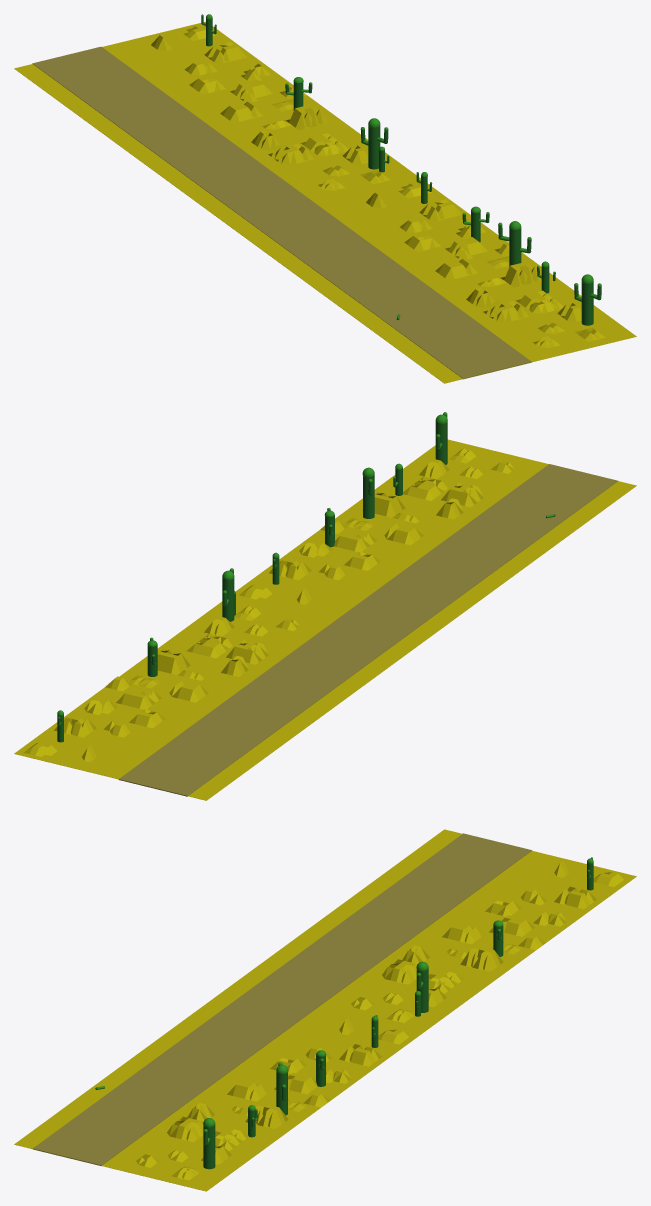
File: STANDOFF2.fbx
3 renders of one model, top to bottom at view 1: azimuth 30°, elevation 25°; view 2: azimuth 150°, elevation 25°; view 3: azimuth 330°, elevation 25°, orthographic.
Parts seen in each view (by area): view 1: Cube; view 2: Cube; view 3: Cube.
Part boxes in pixels (x1,y1,x2,y2): Cube: (14,14,636,383); Cube: (14,412,636,800); Cube: (14,829,636,1191).
Bounding box in the file's own units: 19682 × 5172 × 76259.
